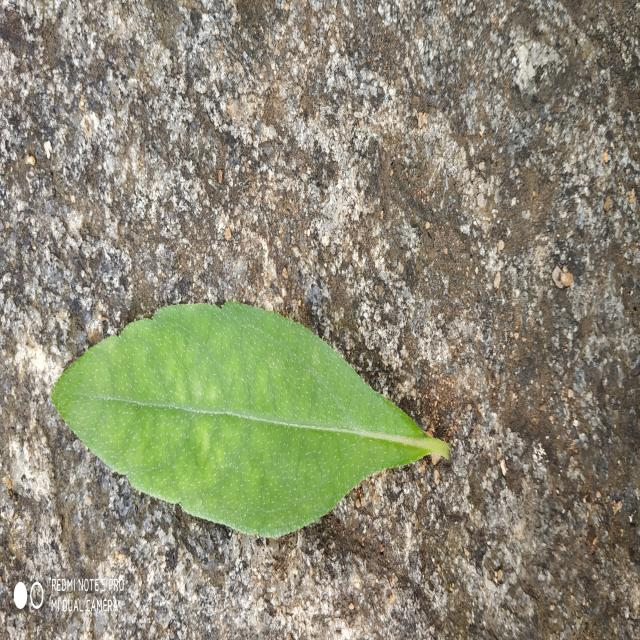bringaraja: (52, 302, 450, 538)
